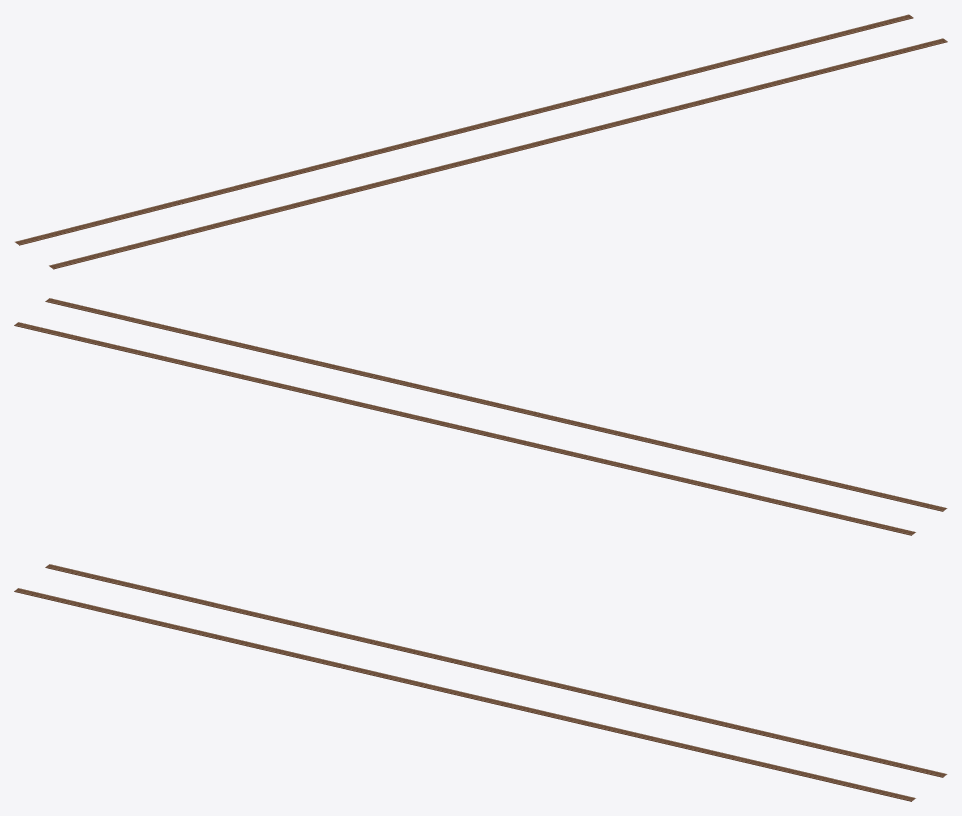
The model's file is Area_08_11.fbx.
3 renders of one model, top to bottom at view 1: azimuth 30°, elevation 25°; view 2: azimuth 150°, elevation 25°; view 3: azimuth 330°, elevation 25°, orthographic.
Parts seen in each view (by area): view 1: Area_08_11; view 2: Area_08_11; view 3: Area_08_11.
Part boxes in pixels (x1,y1,x2,y2): Area_08_11: (15, 14, 947, 269); Area_08_11: (14, 298, 947, 535); Area_08_11: (14, 564, 947, 801).
Bounding box in the file's own units: 7917 × 3.6 × 718.
